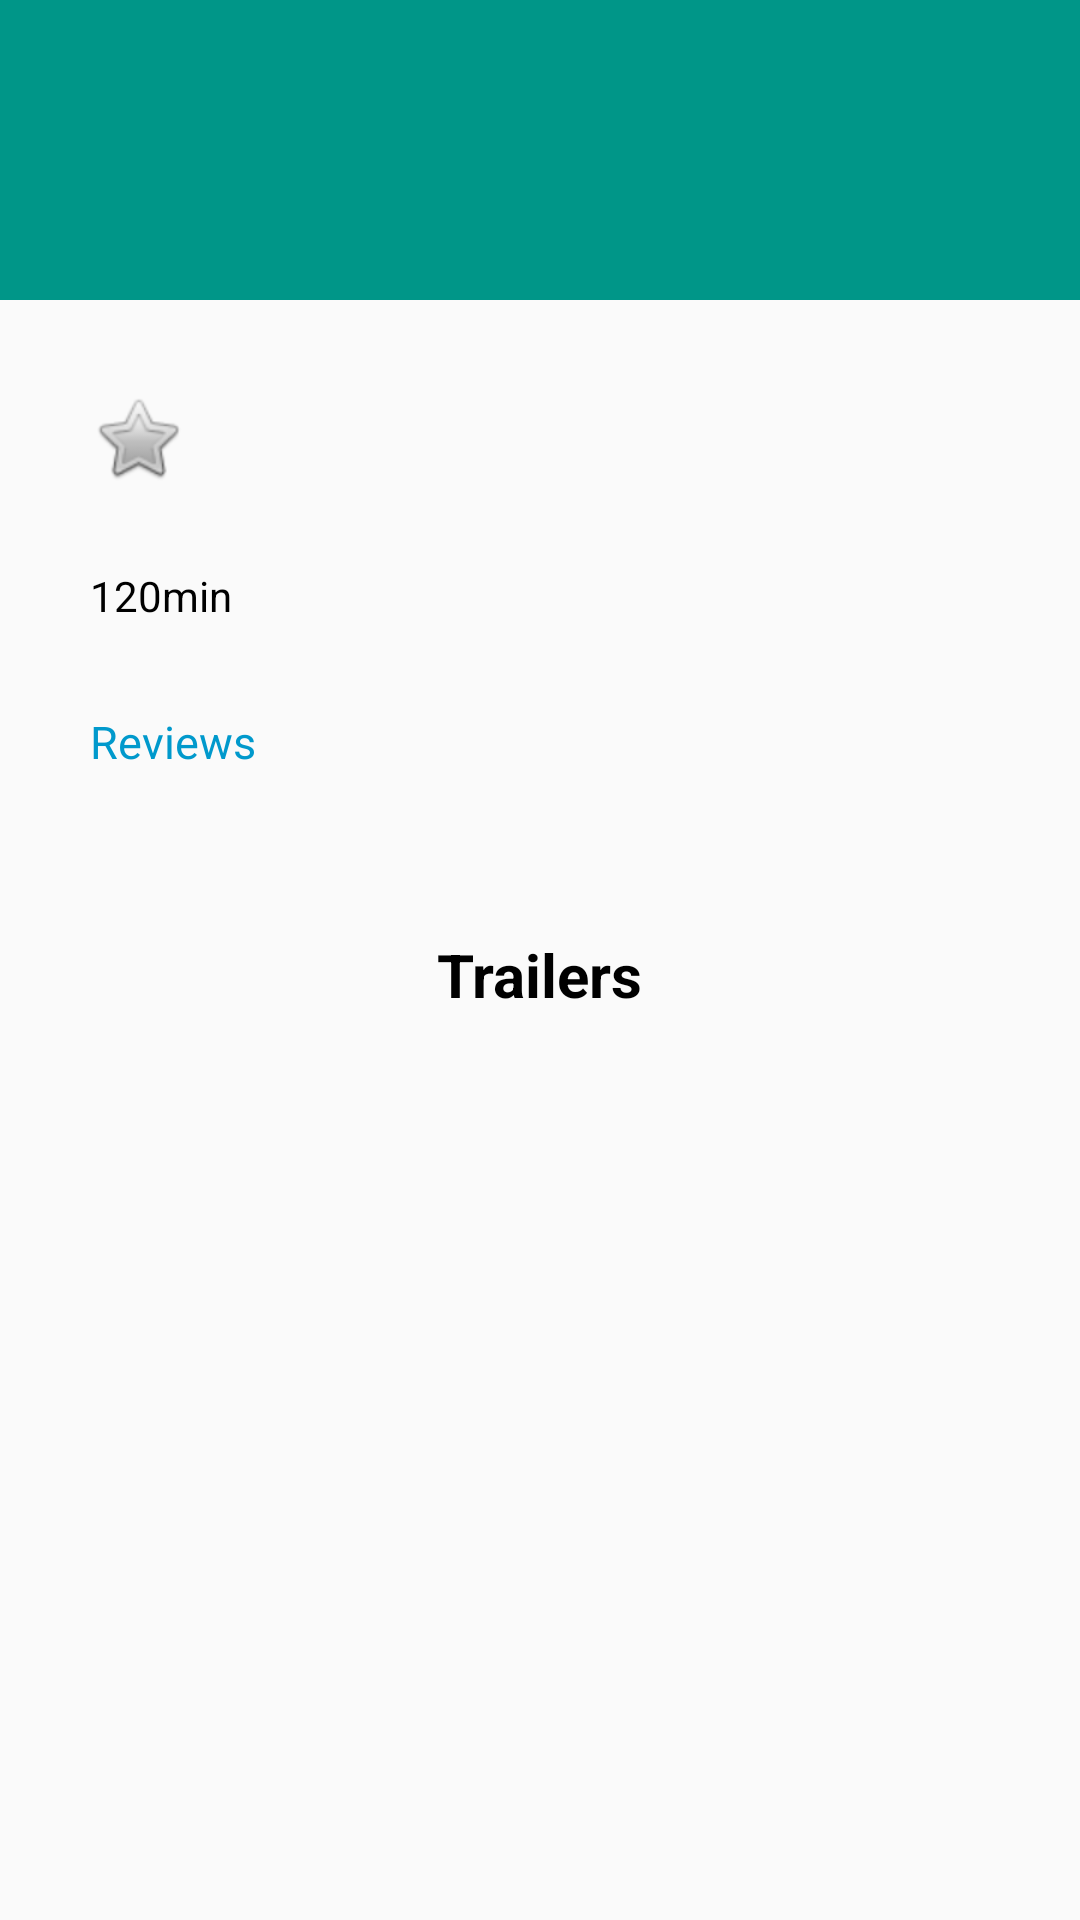

Screen size 1080×1920. Icon name, then its box in pixels as (x1, y1, x2, y2):
star off: (99, 400, 179, 478)
